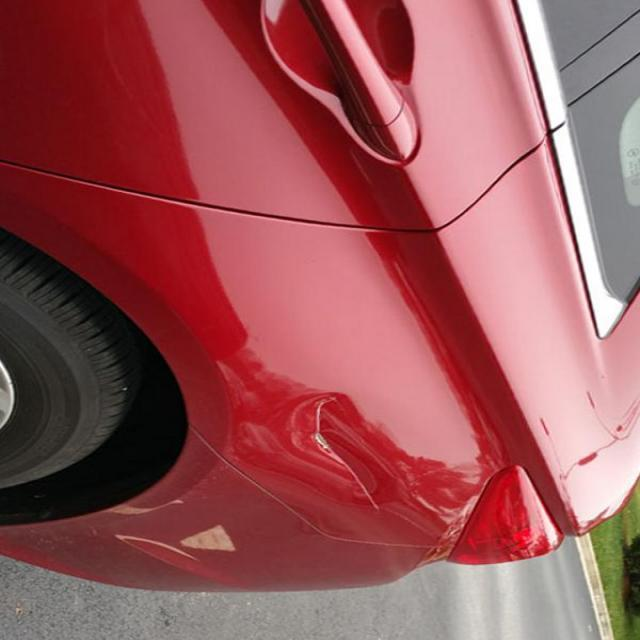dent: (274, 365, 402, 520)
